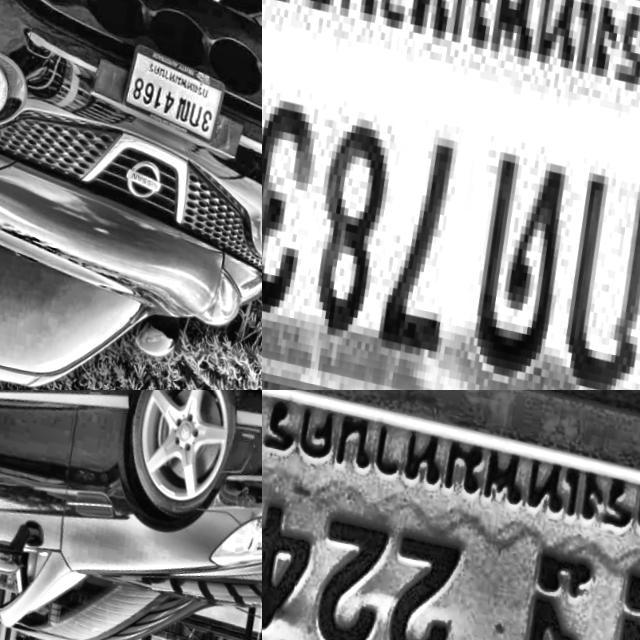license-plate: (262, 0, 640, 390), (262, 390, 640, 640), (108, 24, 231, 144)
